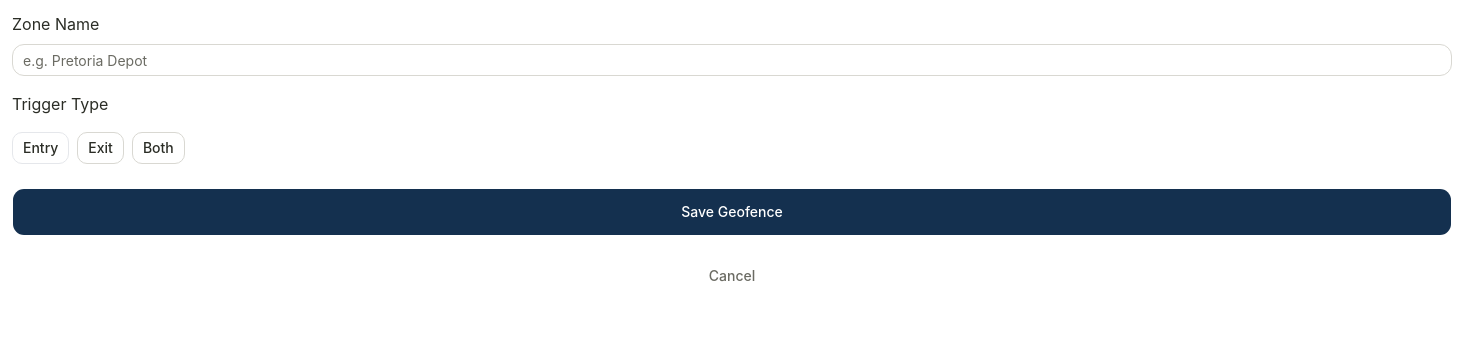
Test: ZoneDetails form › shows validation errors when submitted empty
Click the button "Save Geofence" at (732, 212), box [12,188,1452,236]
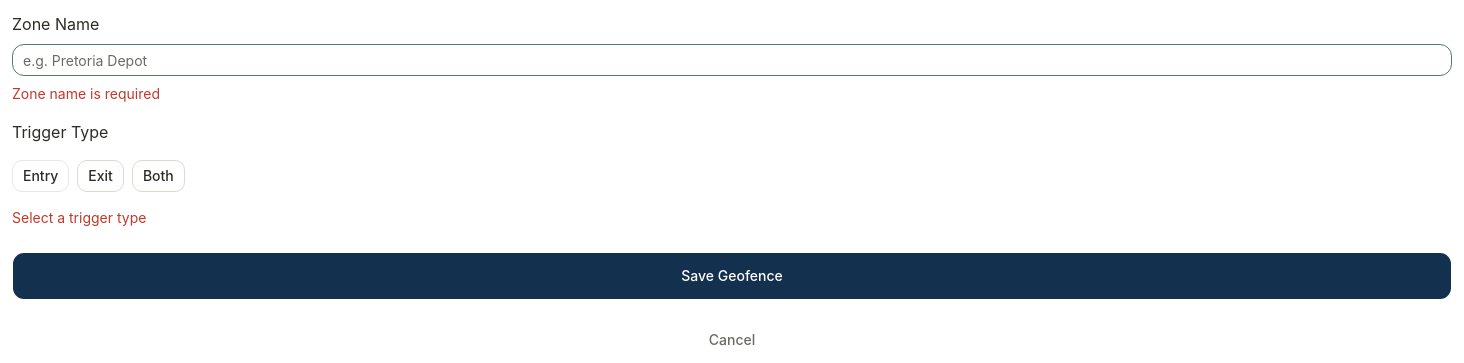
Check: the text "Zone name is required" is shown, box [12,85,160,102]
Check: the text "Select a trigger type" is shown, box [12,209,146,226]
